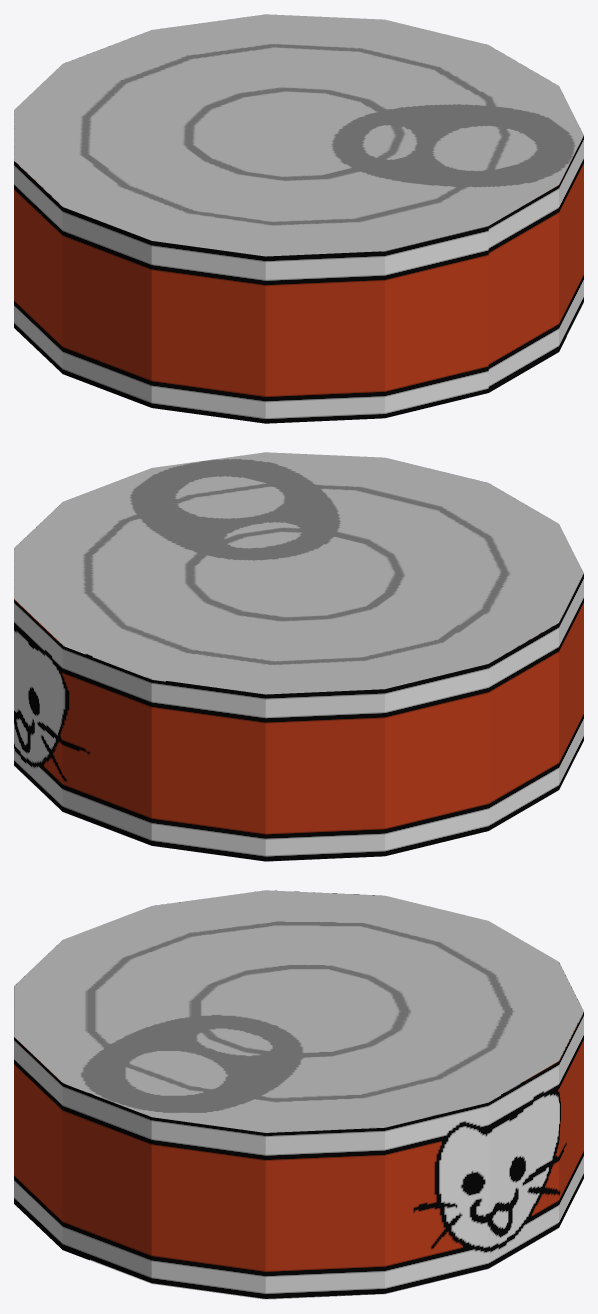
File: lata gold.fbx
3 views of the same model, one above another, from view 1: azimuth 30°, elevation 25°; view 2: azimuth 150°, elevation 25°; view 3: azimuth 270°, elevation 25° (orthographic).
Parts seen in each view (by area): view 1: lata; view 2: lata; view 3: lata.
Part boxes in pixels (x1,y1,x2,y2): lata: [14, 14, 583, 423]; lata: [14, 452, 583, 861]; lata: [14, 890, 583, 1299].
Bounding box in the file's own units: 199 × 64 × 198.
Materials: 1 (1 with a texture image).
